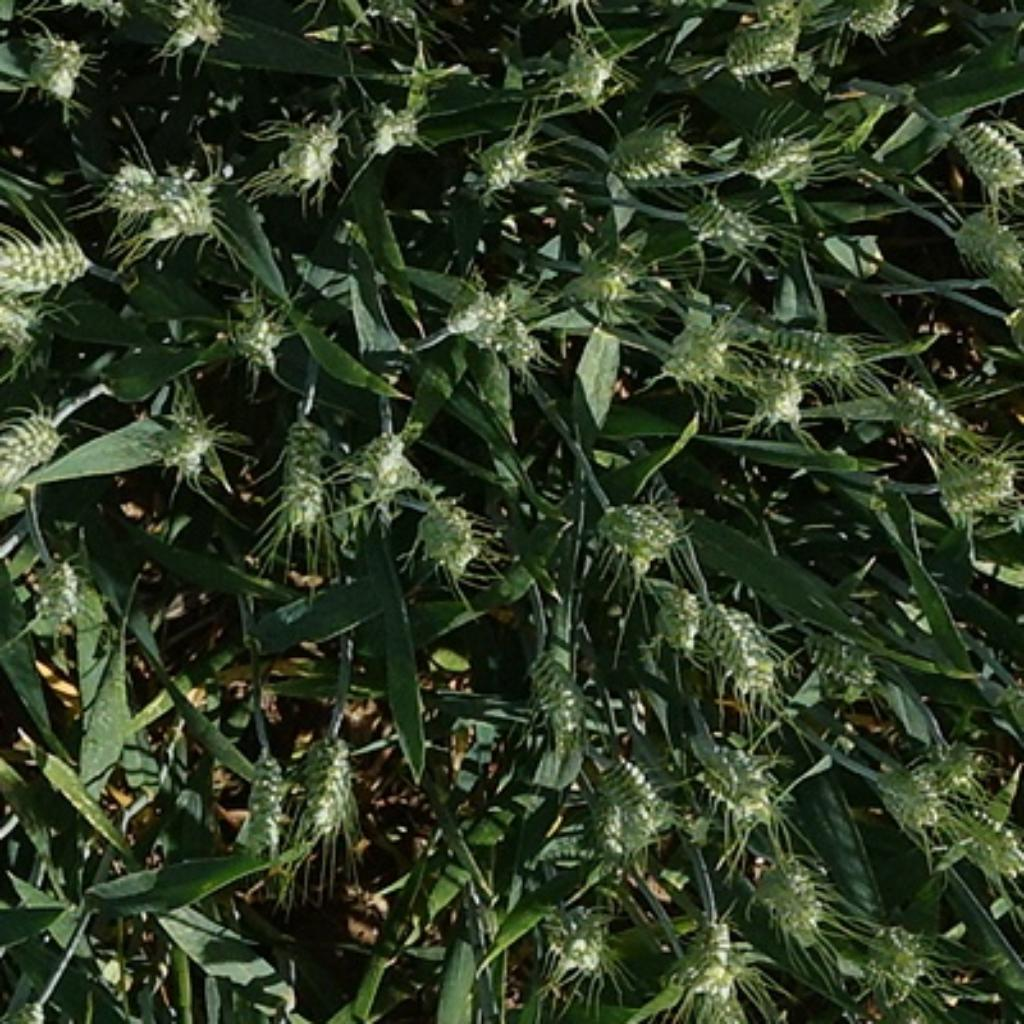0-0: (94, 148, 225, 245), (432, 279, 547, 373), (744, 309, 870, 386), (271, 399, 340, 535), (867, 744, 967, 837), (674, 914, 758, 1023), (744, 842, 832, 942), (686, 727, 778, 821), (289, 724, 363, 839), (2, 220, 92, 312), (588, 483, 688, 565), (15, 547, 104, 634), (519, 642, 596, 742), (719, 591, 788, 701), (929, 445, 1021, 524), (232, 744, 294, 860), (852, 913, 939, 995), (407, 486, 486, 576), (934, 801, 1024, 880), (601, 112, 693, 189), (875, 373, 967, 450), (535, 890, 616, 977), (657, 304, 739, 389), (266, 107, 350, 189), (345, 422, 422, 509), (798, 622, 885, 698), (565, 232, 647, 312), (716, 5, 808, 76), (2, 401, 69, 496), (942, 112, 1024, 189), (734, 122, 824, 192), (596, 732, 669, 817), (15, 23, 89, 102), (729, 353, 811, 424), (145, 401, 220, 478), (680, 189, 770, 253), (944, 207, 1024, 279), (545, 33, 622, 107), (465, 125, 542, 197), (220, 294, 291, 371), (651, 577, 708, 661), (355, 94, 424, 153), (156, 0, 230, 53), (584, 786, 637, 857), (361, 0, 439, 39), (837, 0, 911, 40), (744, 0, 906, 2)
